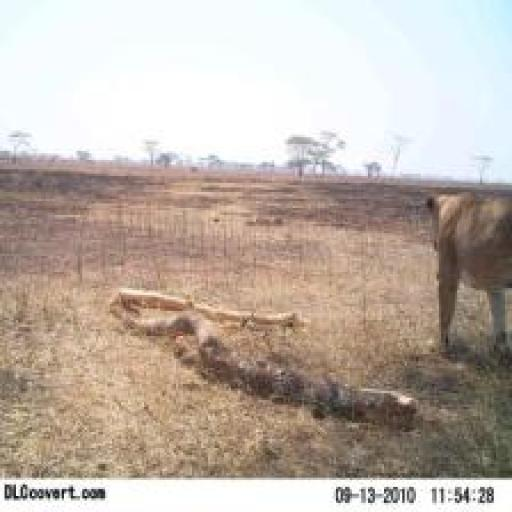lion: (413, 157, 512, 392)
